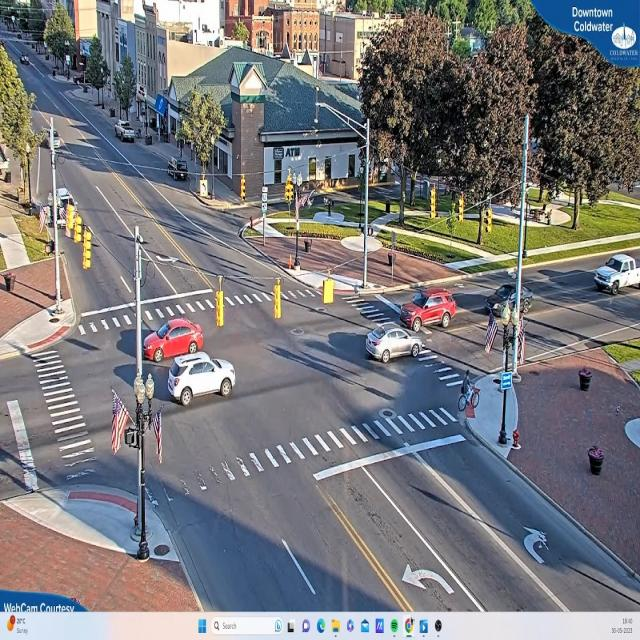bicycle: (457, 370, 481, 414)
car: (168, 351, 237, 405), (144, 317, 204, 368), (399, 285, 456, 329), (364, 321, 420, 364), (485, 276, 534, 322), (593, 256, 635, 294), (165, 158, 189, 180), (116, 123, 136, 143)
